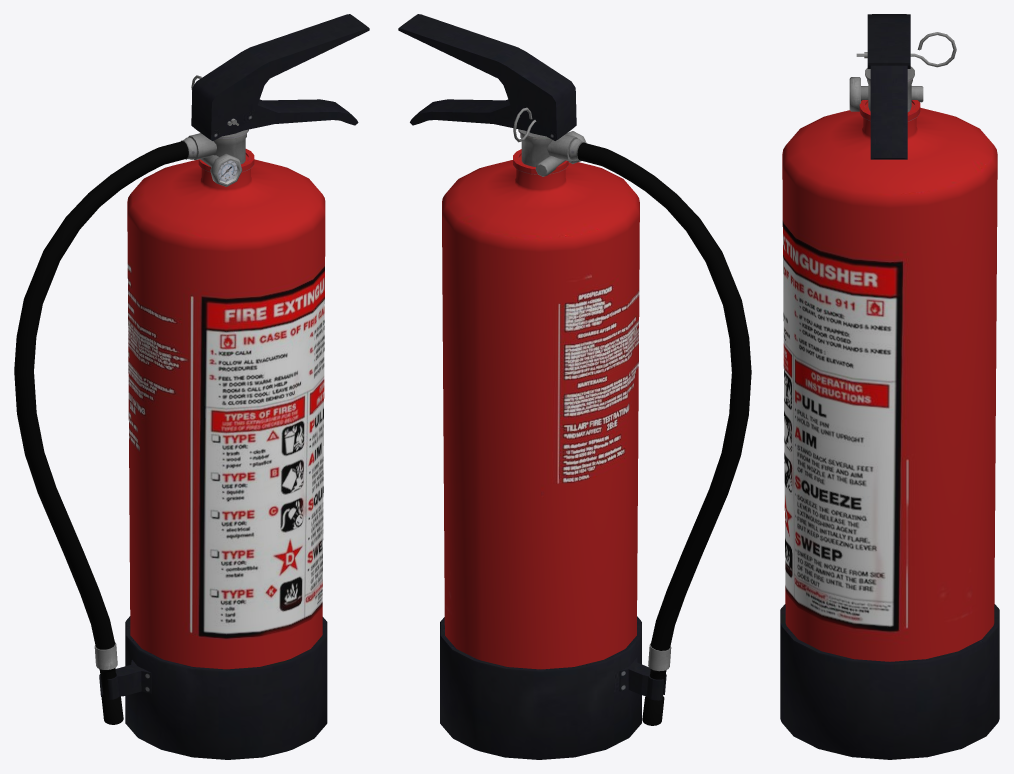
The model's file is fire_extinguisher.glb.
3 renders of one model, left to right at view 1: azimuth 30°, elevation 25°; view 2: azimuth 150°, elevation 25°; view 3: azimuth 270°, elevation 25°, orthographic. The views are drawn at different scales.
Parts seen in each view (by area): view 1: Cylinder002; view 2: Cylinder002; view 3: Cylinder002.
Part boxes in pixels (bbox=[...]): Cylinder002: bbox=[14, 14, 369, 759]; Cylinder002: bbox=[398, 14, 751, 759]; Cylinder002: bbox=[780, 14, 999, 759].
Size of the model in its own units: 1.08 by 2 by 0.5509.
Materials: 1 (1 with a texture image).
